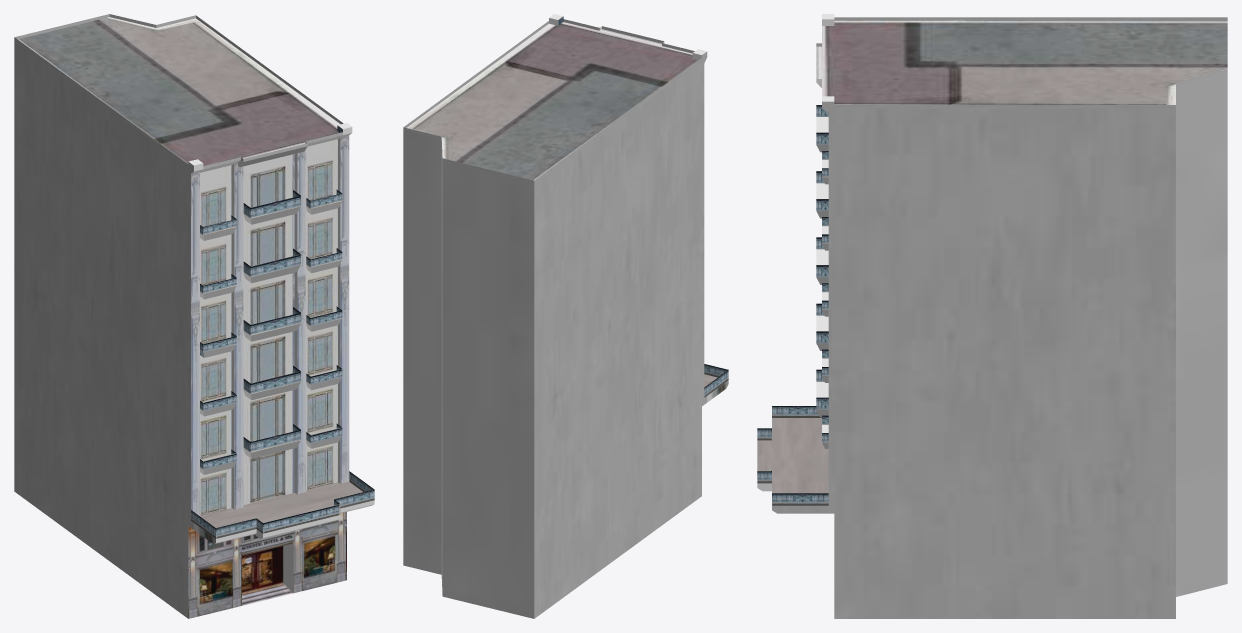
The picture shows the model from 3 angles, left to right: view 1: azimuth 30°, elevation 25°; view 2: azimuth 150°, elevation 25°; view 3: azimuth 270°, elevation 25°; orthographic projection. The views are drawn at different scales.
Parts seen in each view (by area): view 1: Acoustic_Hotel___Spa_; view 2: Acoustic_Hotel___Spa_; view 3: Acoustic_Hotel___Spa_.
Part boxes in pixels (x1=…): Acoustic_Hotel___Spa_: x1=14, y1=14, x2=374, y2=618; Acoustic_Hotel___Spa_: x1=403, y1=14, x2=728, y2=618; Acoustic_Hotel___Spa_: x1=757, y1=14, x2=1227, y2=618.
Size of the model in its own units: 10 by 27.56 by 22.72.
1 material, 1 textured.
